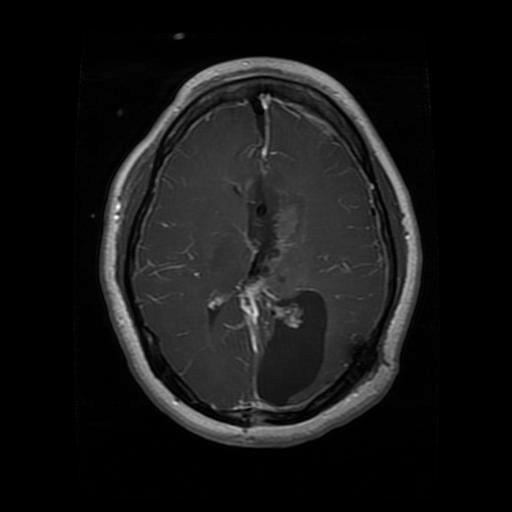Tumour-Glioma: (268, 285, 331, 416)
